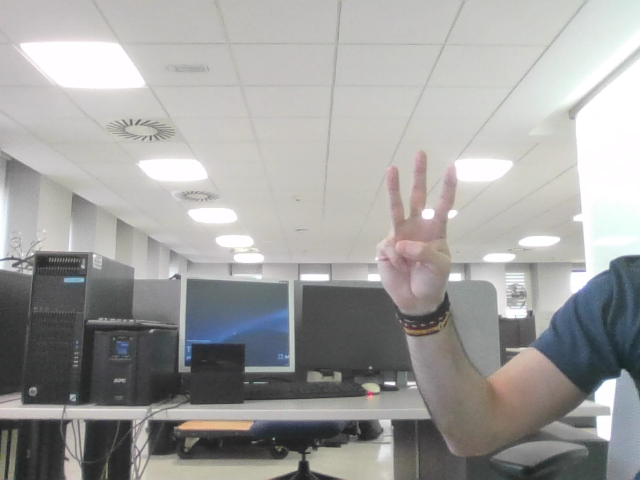3Dedos: (390, 164, 449, 283)
